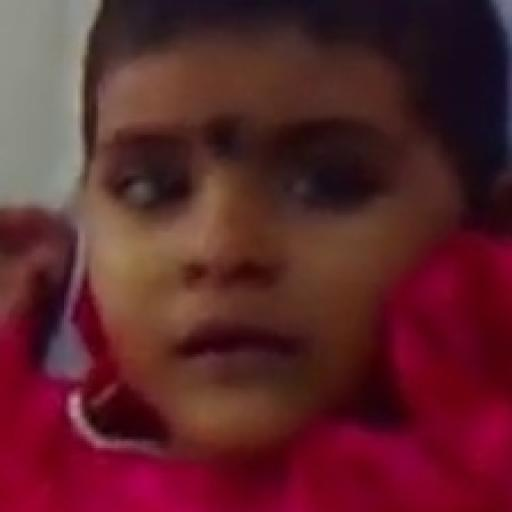Autism: (64, 0, 453, 487)
